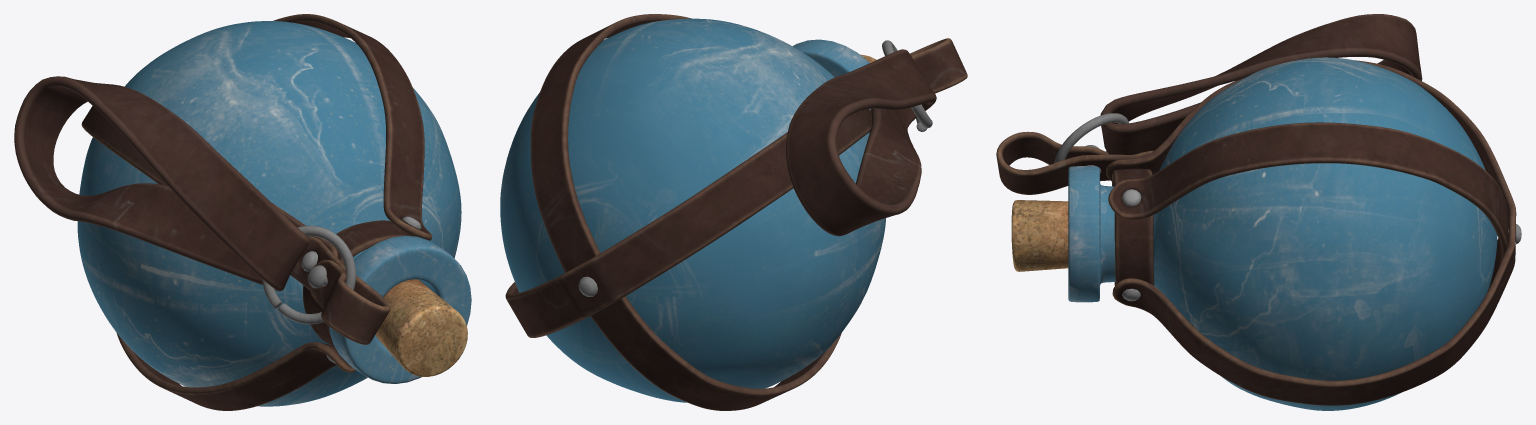
The model's file is bottle.fbx.
3 views of the same model, side by side, from view 1: azimuth 30°, elevation 25°; view 2: azimuth 150°, elevation 25°; view 3: azimuth 270°, elevation 25° (orthographic). The views are drawn at different scales.
Parts seen in each view (by area): view 1: Sklianka, Remeshok, Remny, Probka, Kolco; view 2: Sklianka, Remny, Remeshok, Kolco; view 3: Sklianka, Remny, Remeshok, Probka, Kolco.
Boxes of the visible parts, x1,y1,x2,y2 form: Sklianka: (77, 21, 471, 406); Remeshok: (14, 76, 310, 291); Remny: (81, 14, 432, 410); Probka: (376, 279, 467, 376); Kolco: (262, 225, 356, 324); Sklianka: (500, 18, 885, 402); Remny: (505, 14, 967, 410); Remeshok: (786, 49, 936, 236); Kolco: (882, 40, 932, 131); Sklianka: (1068, 57, 1497, 410); Remny: (996, 60, 1516, 405); Remeshok: (1100, 14, 1422, 154); Probka: (1011, 200, 1068, 271); Kolco: (1054, 113, 1128, 163).
Bounding box in the file's own units: 226 × 195 × 292.
Materials: 1 (1 with a texture image).
